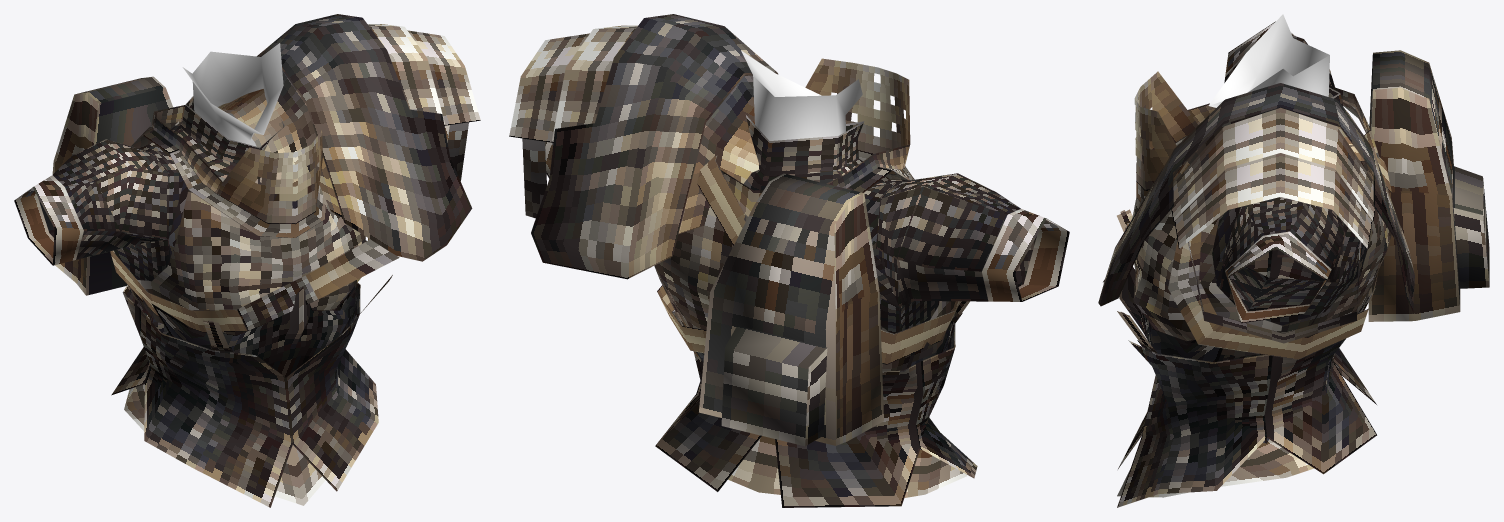
The model's file is f_body048.glb.
3 renders of one model, left to right at view 1: azimuth 30°, elevation 25°; view 2: azimuth 150°, elevation 25°; view 3: azimuth 270°, elevation 25°, orthographic. The views are drawn at different scales.
Bounding box in the file's own units: 65.1 × 60.76 × 46.6.
2 materials, 1 textured.
